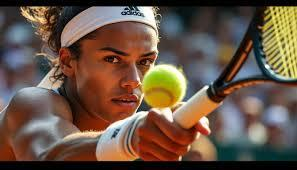ball_tennis: (142, 64, 186, 109)
